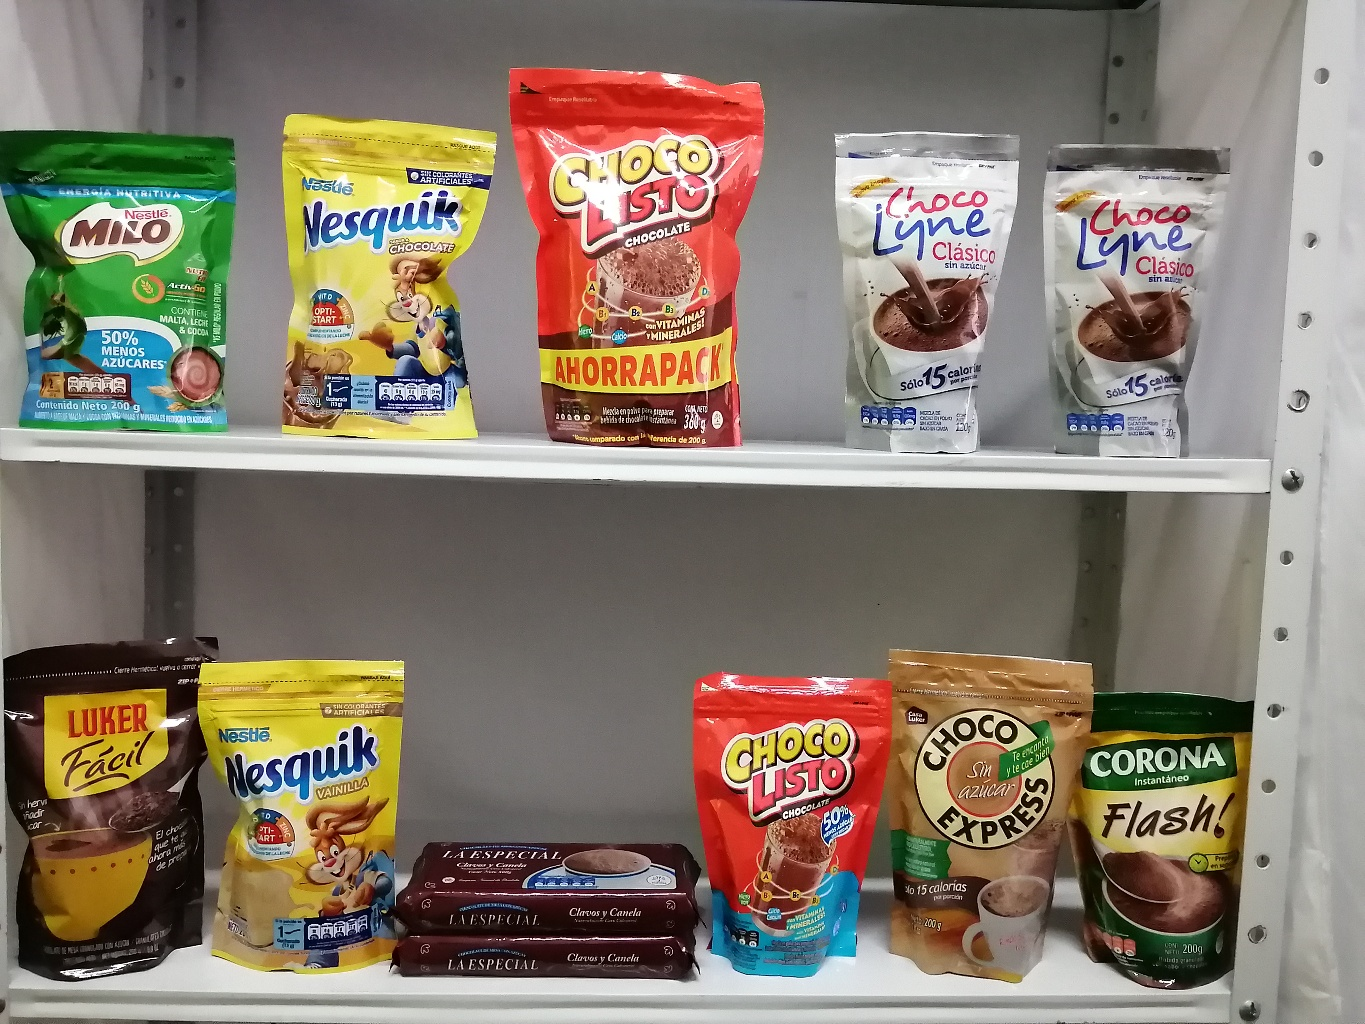COL0170103DYP36000: (510, 51, 772, 441)
COL0170104DYP20000: (700, 658, 888, 975)
COL0170205DYP20000: (6, 123, 239, 433)
COL0170303DYP20000: (279, 101, 510, 441)
COL0170306DYP20000: (207, 650, 421, 972)
